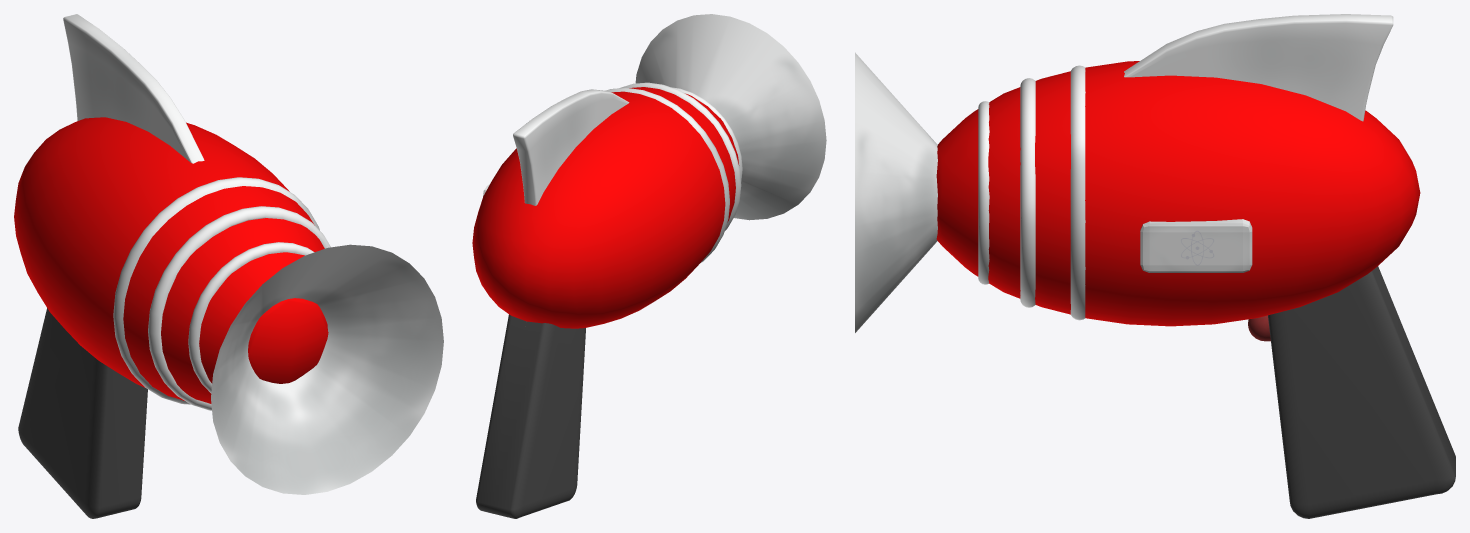
Rendered from Blaster.obj.
3 renders of one model, left to right at view 1: azimuth 30°, elevation 25°; view 2: azimuth 150°, elevation 25°; view 3: azimuth 270°, elevation 25°, orthographic. The views are drawn at different scales.
Parts seen in each view (by area): view 1: Pewpew; view 2: Pewpew; view 3: Pewpew.
Part boxes in pixels (box(x1,y1,x2,y2)): Pewpew: box(14, 14, 443, 518); Pewpew: box(472, 14, 826, 518); Pewpew: box(855, 14, 1455, 518).
Bounding box in the file's own units: 1.24 × 2.4 × 2.66.
